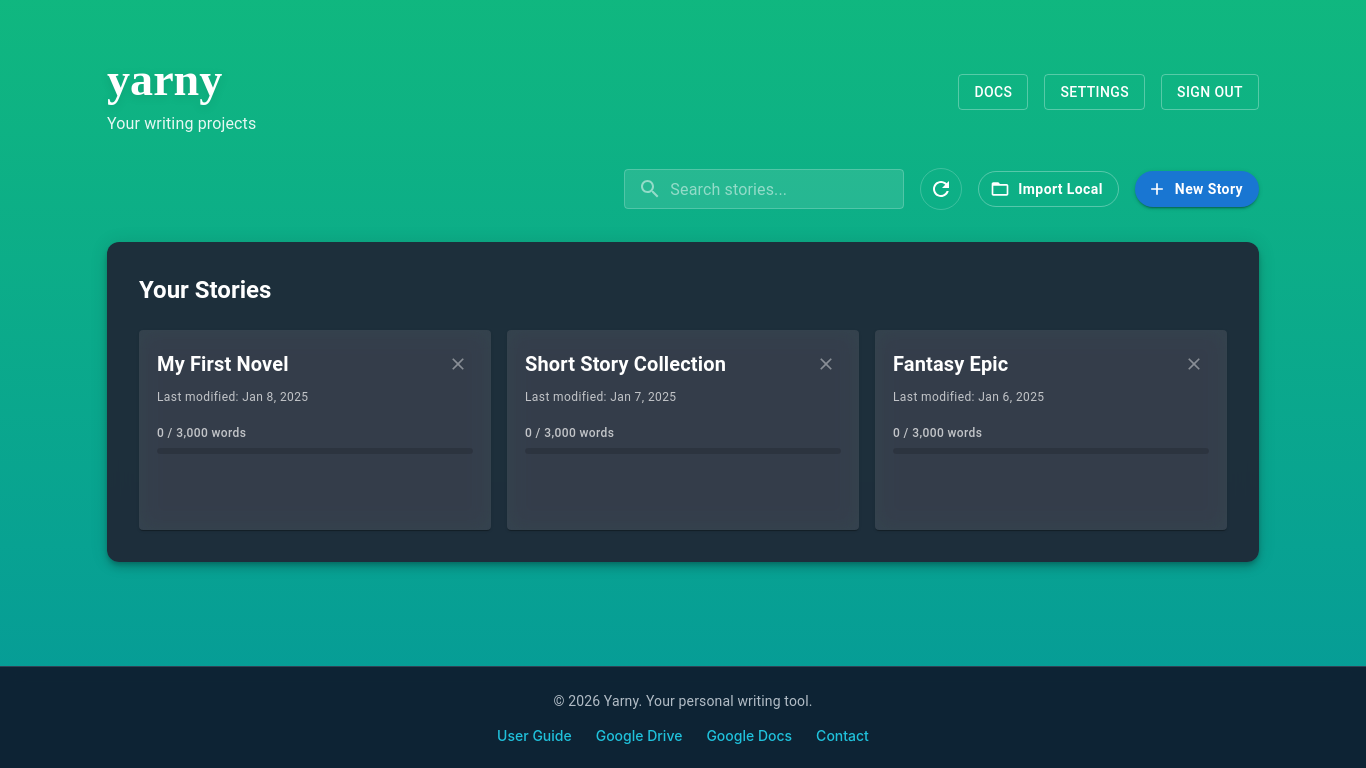
Test: StoriesPage › Modal Behavior › opens new story modal when New Story button is clicked
Click the button "New Story" at (1197, 189), box [1135,171,1259,207]
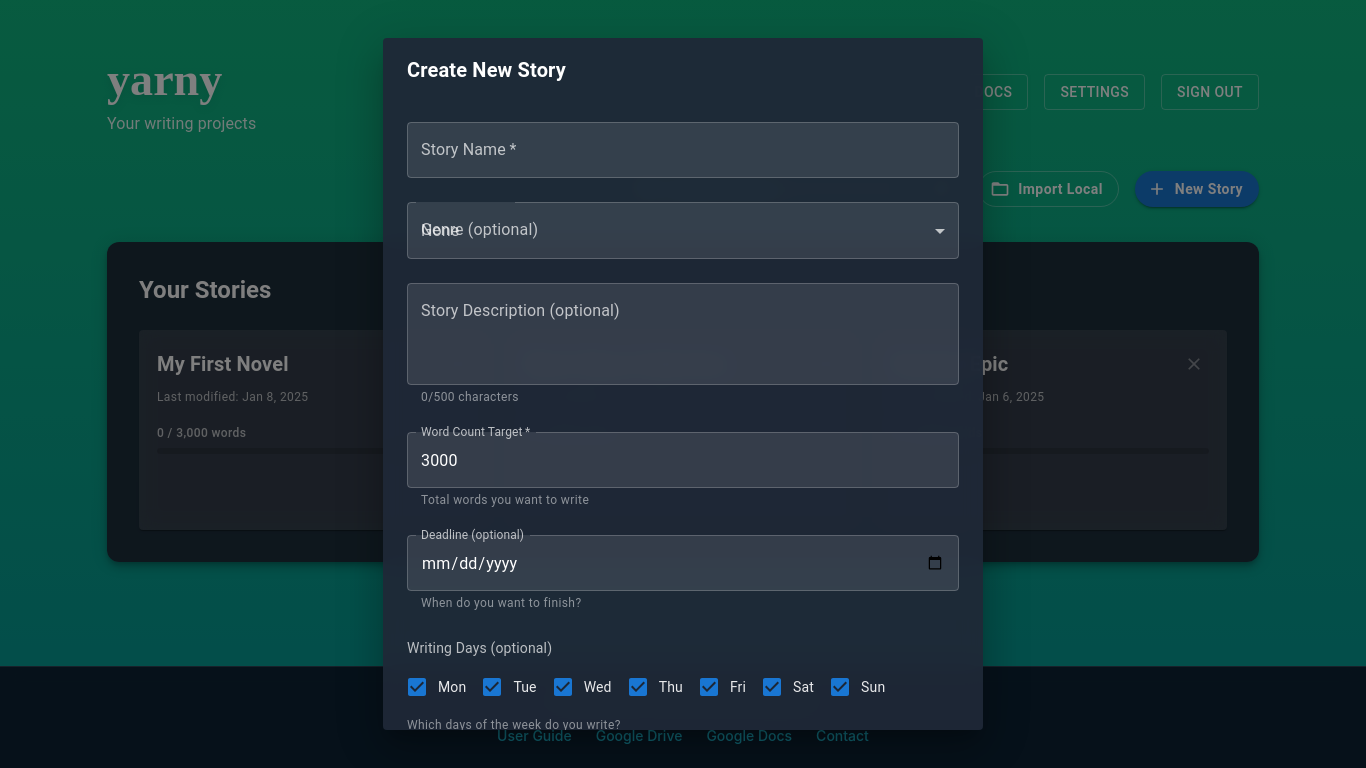
Result: the heading "Create New Story" is shown at [407,58,566,82]
